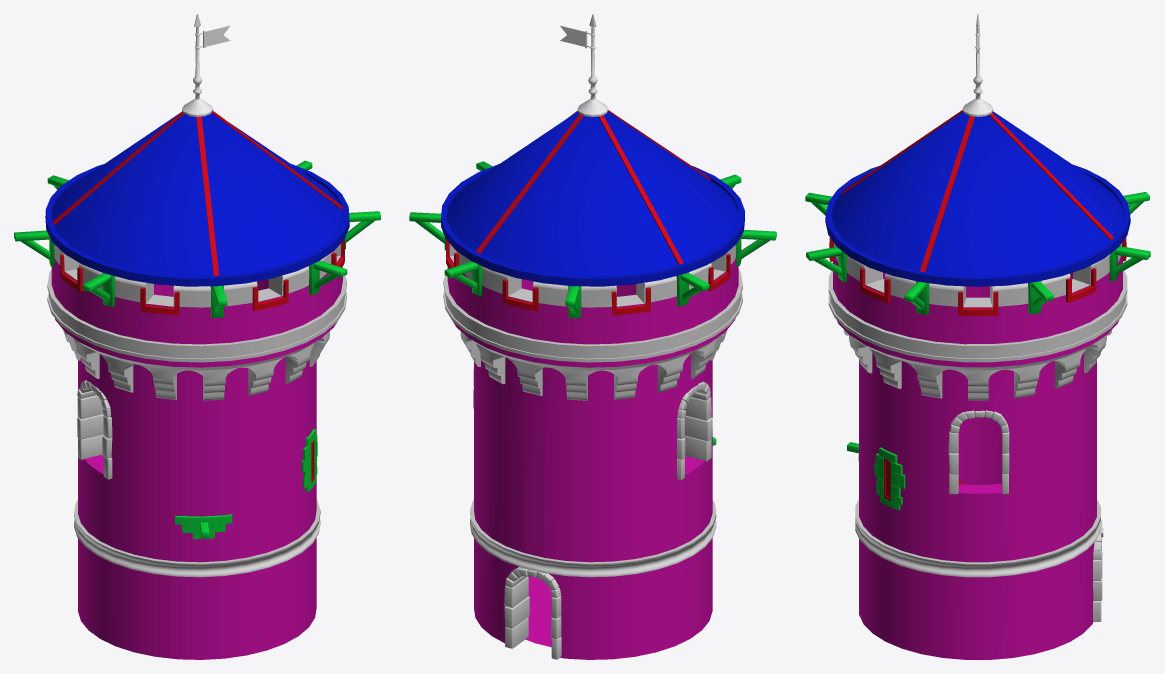
File: Tower_1 (1).fbx
3 views of the same model, side by side, from view 1: azimuth 30°, elevation 25°; view 2: azimuth 150°, elevation 25°; view 3: azimuth 270°, elevation 25° (orthographic).
Visible parts, largest first — view 1: Tower_1.004, Group_4.010, Group_4.011, Group_2, Group_2.007; view 2: Tower_1.004, Group_4.010, Group_4.011; view 3: Tower_1.004, Group_4.010, Group_2.007, Group_4.011.
Part boxes in pixels (bbox=[...]): Tower_1.004: bbox=[47, 239, 346, 659]; Group_4.010: bbox=[14, 111, 380, 318]; Group_4.011: bbox=[182, 14, 230, 116]; Group_2: bbox=[175, 514, 232, 538]; Group_2.007: bbox=[301, 429, 317, 491]; Tower_1.004: bbox=[443, 239, 742, 659]; Group_4.010: bbox=[409, 110, 776, 318]; Group_4.011: bbox=[560, 14, 608, 116]; Tower_1.004: bbox=[828, 237, 1127, 659]; Group_4.010: bbox=[805, 110, 1150, 314]; Group_2.007: bbox=[874, 447, 905, 510]; Group_4.011: bbox=[962, 14, 993, 116].
Bounding box in the file's own units: 932 × 1774 × 932.
